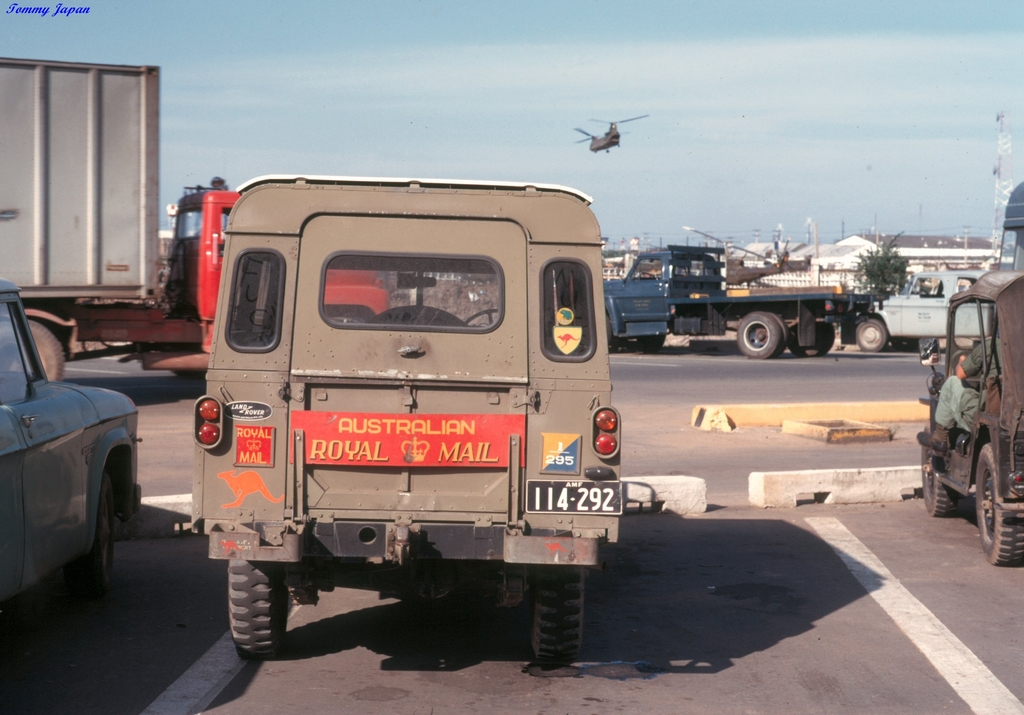Car: (1, 280, 142, 601)
